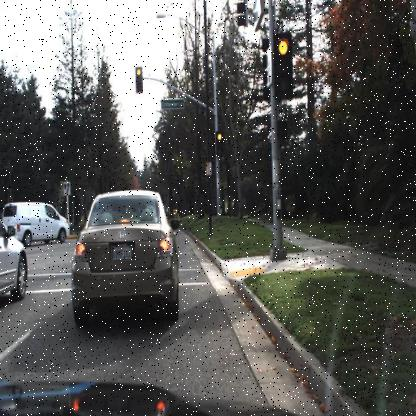car: (72, 186, 178, 328), (2, 199, 70, 245), (0, 208, 32, 304), (3, 201, 68, 243)
trafficLight-Red: (271, 30, 294, 100), (214, 130, 224, 160), (135, 66, 144, 94)
